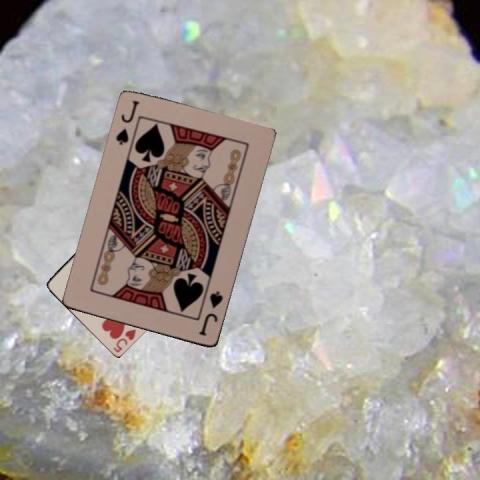5h: (110, 326, 137, 353)
Js: (195, 288, 225, 338), (113, 97, 141, 147)
